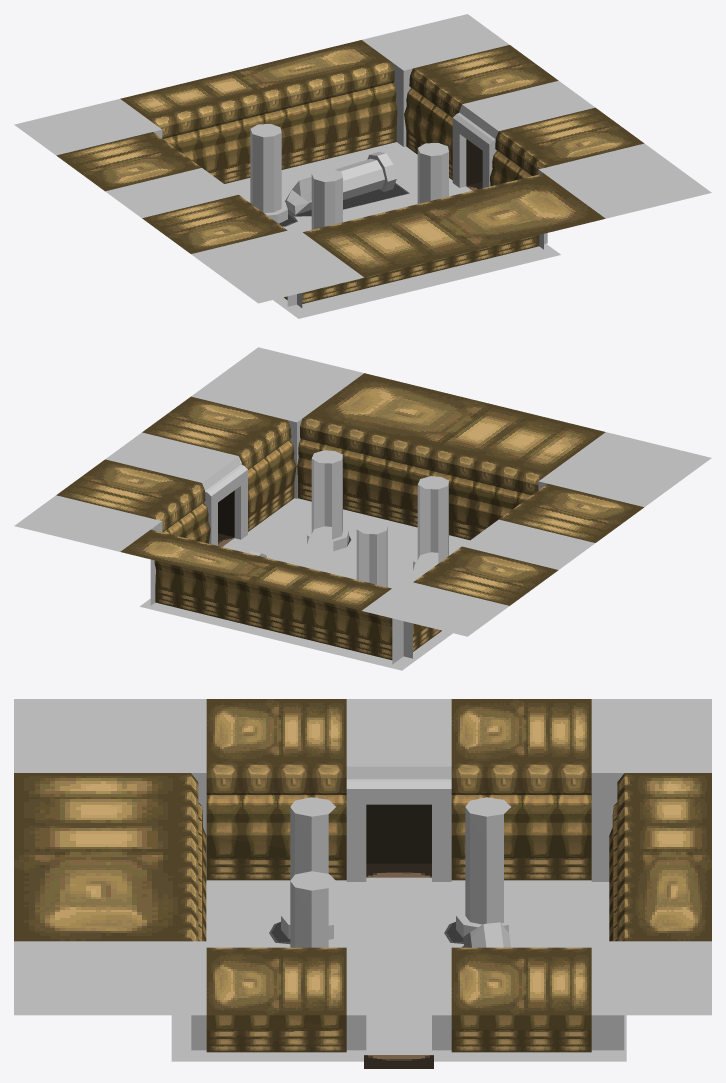
File: m_dun0409_00_00.obj
The picture shows the model from 3 angles, top to bottom: view 1: azimuth 30°, elevation 25°; view 2: azimuth 150°, elevation 25°; view 3: azimuth 270°, elevation 25°; orthographic projection. The views are drawn at different scales.
Visible parts, largest first — view 1: in10_zou02_lay0_QUADS_VisGroup0, in10_tile05_lay0_QUADS_VisGroup0, in10_tile04_lay0_QUADS_VisGroup0, in10_zou01_lay0_QUADS_VisGroup0, in10_has01_lay0_QUADS_VisGroup0, in10_tile03_lay0_QUADS_VisGroup0, in10_tile06_lay0_QUADS_VisGroup0, in10_has01_lay0_TRIS_VisGroup0, h_kage_lay0_QUADS_VisGroup0, in45_gate01_lay0_QUADS_VisGroup0, in10_has02_lay0_TRIS_VisGroup0, in10_tile05_lay0_TRIS_VisGroup0; view 2: in10_zou02_lay0_QUADS_VisGroup0, in10_tile05_lay0_QUADS_VisGroup0, in10_zou01_lay0_QUADS_VisGroup0, in10_tile04_lay0_QUADS_VisGroup0, in10_has01_lay0_QUADS_VisGroup0, in10_tile03_lay0_QUADS_VisGroup0, in10_has01_lay0_TRIS_VisGroup0, in10_tile06_lay0_QUADS_VisGroup0, in45_gate01_lay0_QUADS_VisGroup0, in10_tile05_lay0_TRIS_VisGroup0; view 3: in10_zou02_lay0_QUADS_VisGroup0, in10_tile05_lay0_QUADS_VisGroup0, in10_tile04_lay0_QUADS_VisGroup0, in10_zou01_lay0_QUADS_VisGroup0, in10_has01_lay0_QUADS_VisGroup0, in45_gate01_lay0_QUADS_VisGroup0, in10_tile03_lay0_QUADS_VisGroup0, in10_tile06_lay0_QUADS_VisGroup0, in10_has01_lay0_TRIS_VisGroup0, in10_tile05_lay0_TRIS_VisGroup0.
Part boxes in pixels (<box>): in10_zou02_lay0_QUADS_VisGroup0: <box>56,40,644,303</box>; in10_tile05_lay0_QUADS_VisGroup0: <box>14,14,711,303</box>; in10_tile04_lay0_QUADS_VisGroup0: <box>105,80,594,318</box>; in10_zou01_lay0_QUADS_VisGroup0: <box>163,82,531,186</box>; in10_has01_lay0_QUADS_VisGroup0: <box>250,129,448,229</box>; in10_tile03_lay0_QUADS_VisGroup0: <box>153,62,547,307</box>; in10_tile06_lay0_QUADS_VisGroup0: <box>194,102,506,196</box>; in10_has01_lay0_TRIS_VisGroup0: <box>249,124,448,215</box>; h_kage_lay0_QUADS_VisGroup0: <box>279,183,409,226</box>; in45_gate01_lay0_QUADS_VisGroup0: <box>466,139,482,190</box>; in10_has02_lay0_TRIS_VisGroup0: <box>285,179,311,214</box>; in10_tile05_lay0_TRIS_VisGroup0: <box>130,55,565,239</box>; in10_zou02_lay0_QUADS_VisGroup0: <box>56,373,643,660</box>; in10_tile05_lay0_QUADS_VisGroup0: <box>14,347,711,636</box>; in10_zou01_lay0_QUADS_VisGroup0: <box>154,439,531,644</box>; in10_tile04_lay0_QUADS_VisGroup0: <box>105,432,595,670</box>; in10_has01_lay0_QUADS_VisGroup0: <box>250,455,448,587</box>; in10_tile03_lay0_QUADS_VisGroup0: <box>150,419,547,664</box>; in10_has01_lay0_TRIS_VisGroup0: <box>259,450,450,567</box>; in10_tile06_lay0_QUADS_VisGroup0: <box>194,454,506,548</box>; in45_gate01_lay0_QUADS_VisGroup0: <box>218,490,234,546</box>; in10_tile05_lay0_TRIS_VisGroup0: <box>130,411,564,595</box>; in10_zou02_lay0_QUADS_VisGroup0: <box>14,699,711,1052</box>; in10_tile05_lay0_QUADS_VisGroup0: <box>14,699,711,1050</box>; in10_tile04_lay0_QUADS_VisGroup0: <box>171,699,626,1061</box>; in10_zou01_lay0_QUADS_VisGroup0: <box>198,795,617,1029</box>; in10_has01_lay0_QUADS_VisGroup0: <box>281,807,510,947</box>; in45_gate01_lay0_QUADS_VisGroup0: <box>364,804,433,1068</box>; in10_tile03_lay0_QUADS_VisGroup0: <box>191,773,624,1054</box>; in10_tile06_lay0_QUADS_VisGroup0: <box>346,761,451,953</box>; in10_has01_lay0_TRIS_VisGroup0: <box>281,797,517,947</box>; in10_tile05_lay0_TRIS_VisGroup0: <box>178,761,635,953</box>.
Size of the model in its own units: 342 by 64.41 by 319.
